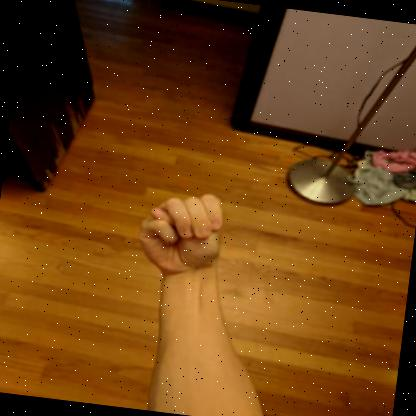M: (139, 193, 222, 276)
